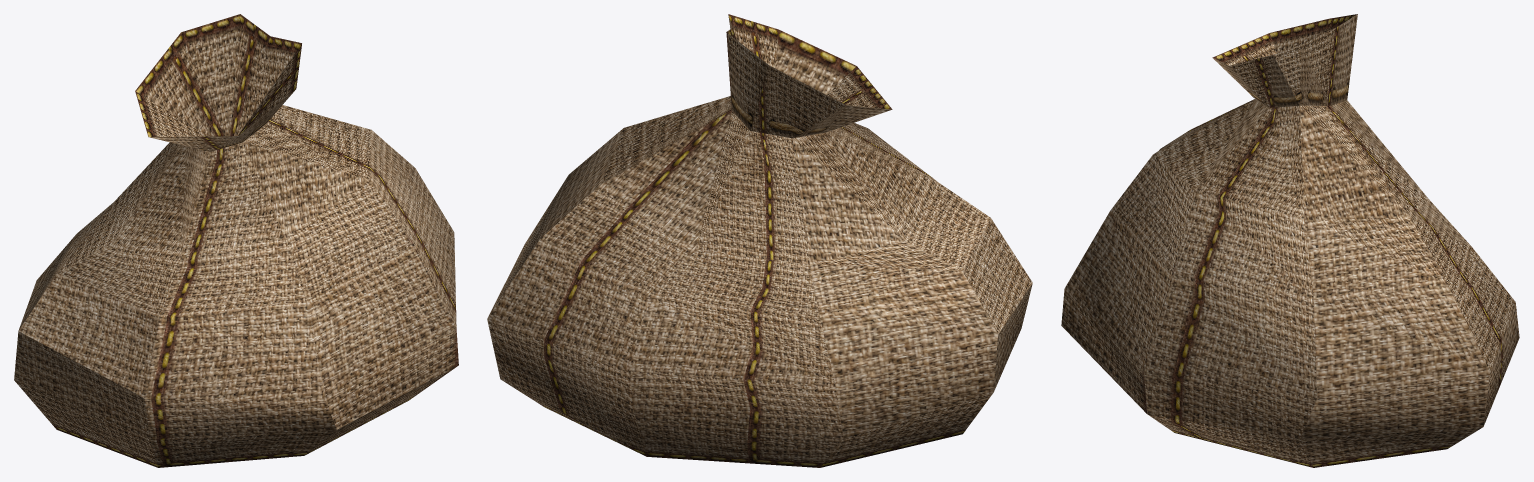
File: mm9_deco_treasurebag.glb
The picture shows the model from 3 angles, left to right: view 1: azimuth 30°, elevation 25°; view 2: azimuth 150°, elevation 25°; view 3: azimuth 270°, elevation 25°; orthographic projection. The views are drawn at different scales.
Parts seen in each view (by area): view 1: Treasurebag; view 2: Treasurebag; view 3: Treasurebag.
Part boxes in pixels (x1,y1,x2,y2): Treasurebag: (14, 14, 458, 467); Treasurebag: (487, 14, 1032, 467); Treasurebag: (1061, 14, 1519, 467).
Size of the model in its own units: 0.445 by 0.335 by 0.3843.
1 material, 1 textured.
